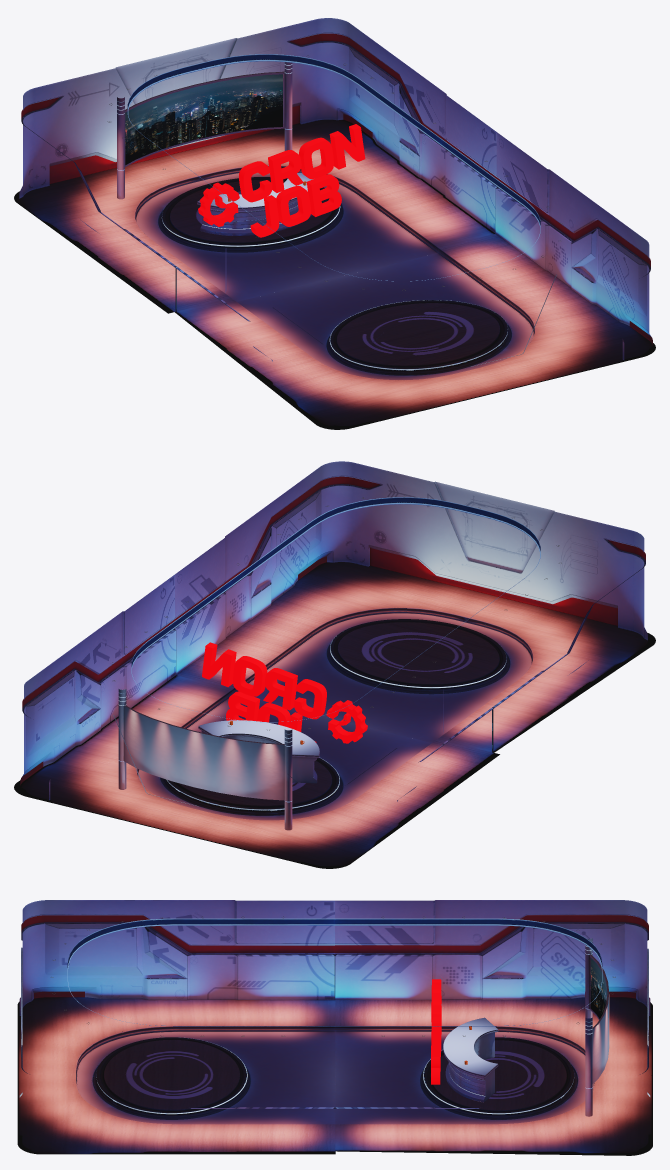
The model's file is cron_red.glb.
3 renders of one model, top to bottom at view 1: azimuth 30°, elevation 25°; view 2: azimuth 150°, elevation 25°; view 3: azimuth 270°, elevation 25°, orthographic. The views are drawn at different scales.
Parts seen in each view (by area): view 1: Ground001, Ground, Walls, Walls001, Virtual_Studio001_ID_3, CronJob.svg_FillEditPoly, objects, Ceiling, desk, Ceiling001; view 2: Ground001, Walls001, Ground, Walls, objects, CronJob.svg_FillEditPoly, desk, Ceiling001, Ceiling; view 3: Ground001, Ground, Walls001, Walls, desk, objects, Ceiling001, Ceiling, CronJob.svg_FillEditPoly, Virtual_Studio001_ID_3.
Part boxes in pixels (left/top/right/bottom): Ground001: left=175, top=233, right=655, bottom=429; Ground: left=14, top=119, right=494, bottom=313; Walls: left=19, top=18, right=499, bottom=311; Walls001: left=173, top=132, right=652, bottom=366; Virtual_Studio001_ID_3: left=125, top=74, right=282, bottom=164; CronJob.svg_FillEditPoly: left=198, top=124, right=365, bottom=237; objects: left=117, top=62, right=292, bottom=199; Ceiling: left=127, top=54, right=441, bottom=196; desk: left=197, top=172, right=313, bottom=235; Ceiling001: left=227, top=139, right=540, bottom=281; Ground001: left=176, top=562, right=655, bottom=752; Walls001: left=172, top=461, right=647, bottom=752; Ground: left=14, top=675, right=499, bottom=868; Walls: left=20, top=574, right=494, bottom=806; objects: left=118, top=689, right=292, bottom=830; CronJob.svg_FillEditPoly: left=202, top=642, right=367, bottom=743; desk: left=198, top=720, right=319, bottom=783; Ceiling001: left=229, top=497, right=540, bottom=638; Ceiling: left=131, top=581, right=441, bottom=722; Ground001: left=17, top=997, right=335, bottom=1154; Ground: left=335, top=997, right=652, bottom=1155; Walls001: left=19, top=900, right=334, bottom=1108; Walls: left=335, top=900, right=650, bottom=1108; desk: left=443, top=1017, right=498, bottom=1102; objects: left=585, top=938, right=609, bottom=1116; Ceiling001: left=67, top=918, right=334, bottom=1026; Ceiling: left=335, top=918, right=602, bottom=1026; CronJob.svg_FillEditPoly: left=431, top=979, right=441, bottom=1084; Virtual_Studio001_ID_3: left=590, top=958, right=607, bottom=1018.
Size of the model in its own units: 8.56 by 2.76 by 14.4.
Materials: 9 (5 with a texture image).
